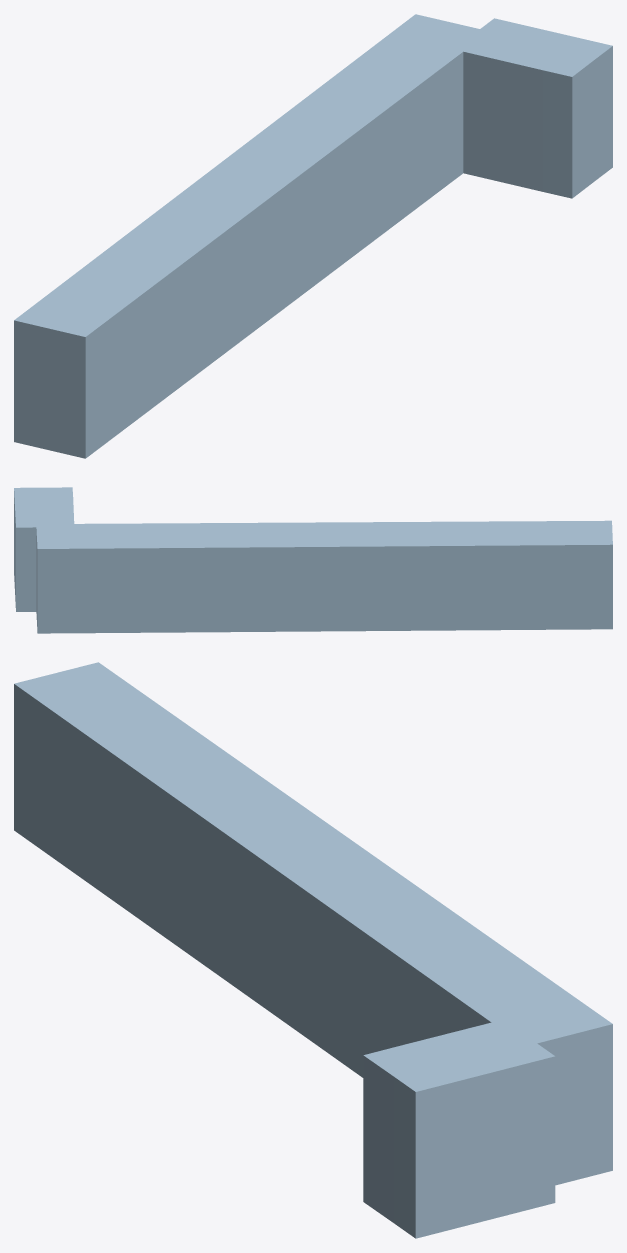
Rendered from osm_way_225253712.glb.
3 renders of one model, top to bottom at view 1: azimuth 30°, elevation 25°; view 2: azimuth 150°, elevation 25°; view 3: azimuth 270°, elevation 25°, orthographic. The views are drawn at different scales.
Visible parts, largest first — view 1: osm_way_225253712; view 2: osm_way_225253712; view 3: osm_way_225253712.
Part boxes in pixels (left/top/right/bottom): osm_way_225253712: left=14, top=14, right=612, bottom=458; osm_way_225253712: left=14, top=487, right=612, bottom=633; osm_way_225253712: left=14, top=662, right=612, bottom=1238.
Size of the model in its own units: 121 by 19.2 by 71.06.
